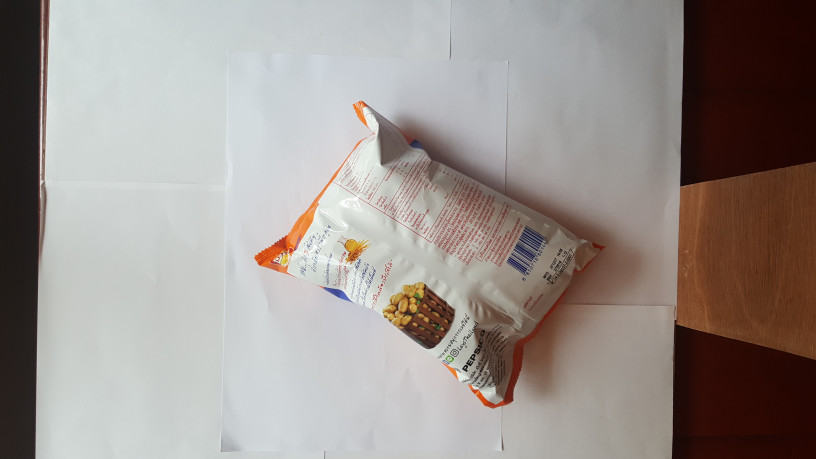lays-bbq: (248, 93, 610, 410)
